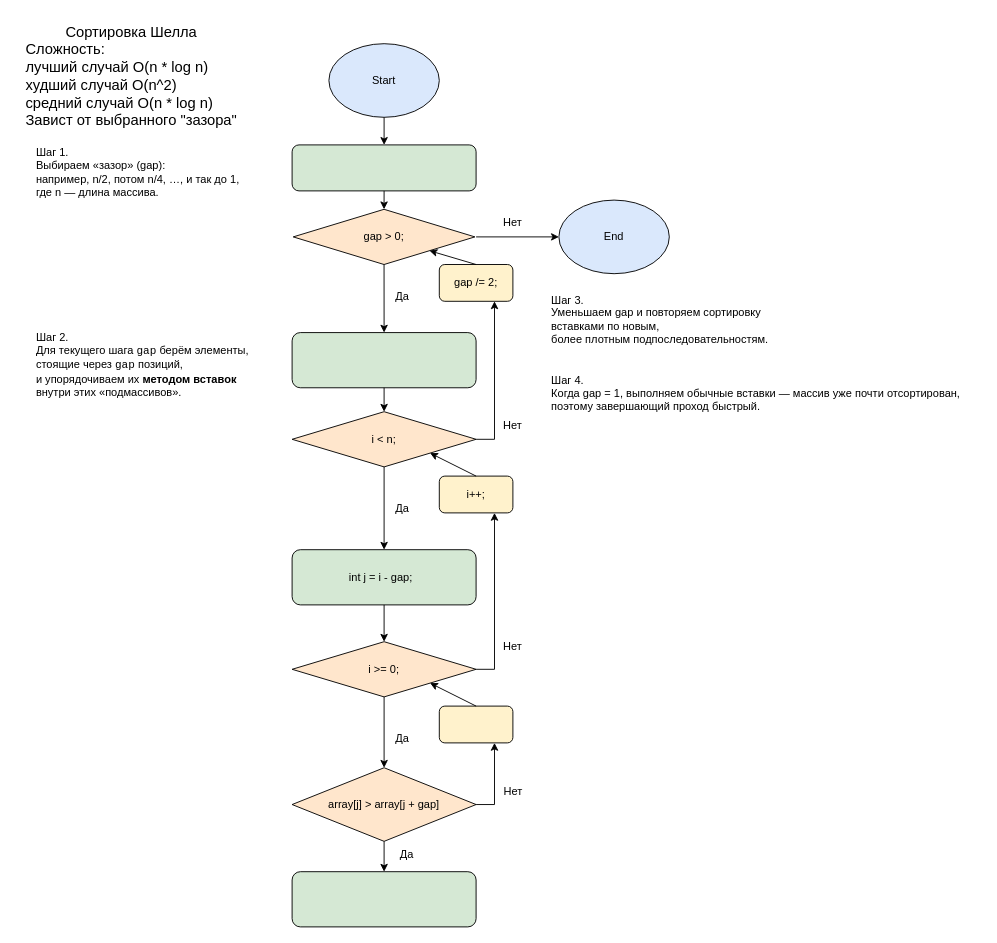
The diagram is 997 pixels wide and 943 high, and some of its shapes have lost their labels. Here are the shapes that lost their labels. From the top down, the centre of each, then its label:
point (383, 167): int n = array.length; int gap = n / 2;
point (383, 360): int i = gap;
point (475, 724): j -= gap;
point (383, 899): int temp = array[j]; array[j] = array[j + gap]; array[j + gap] = temp;
